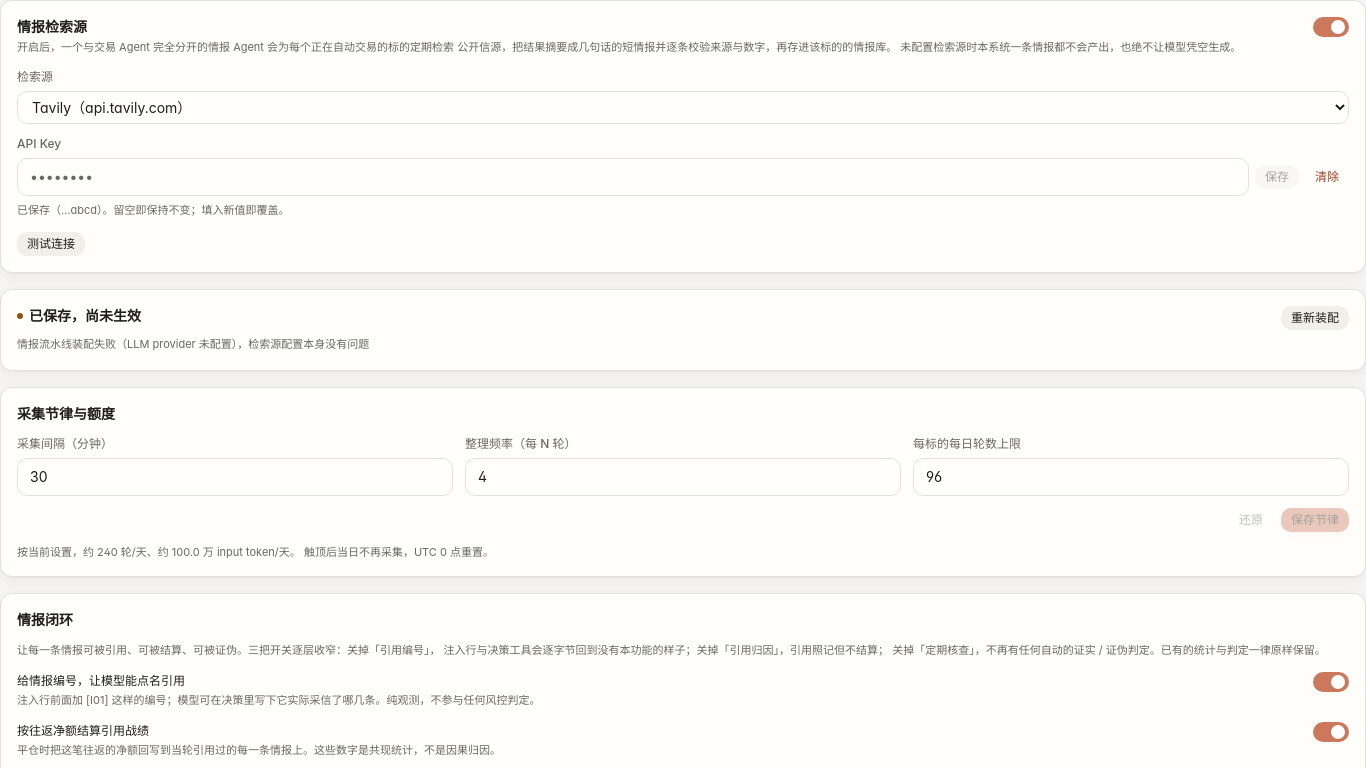
IntelSourceSettings · 生效状态卡（ai-trade-intel-arm-state） › 装配失败 ⇒ 露出【重新装配】，点一次真的发出 POST 并用回执刷新这张卡
This screenshot has width=1366, height=768.
Expected: the text with test id "intel-arm-message" shows "装配失败", [17, 337, 369, 351]
Click the button with test id "intel-arm-rearm" at (1315, 318), box [1281, 306, 1349, 330]
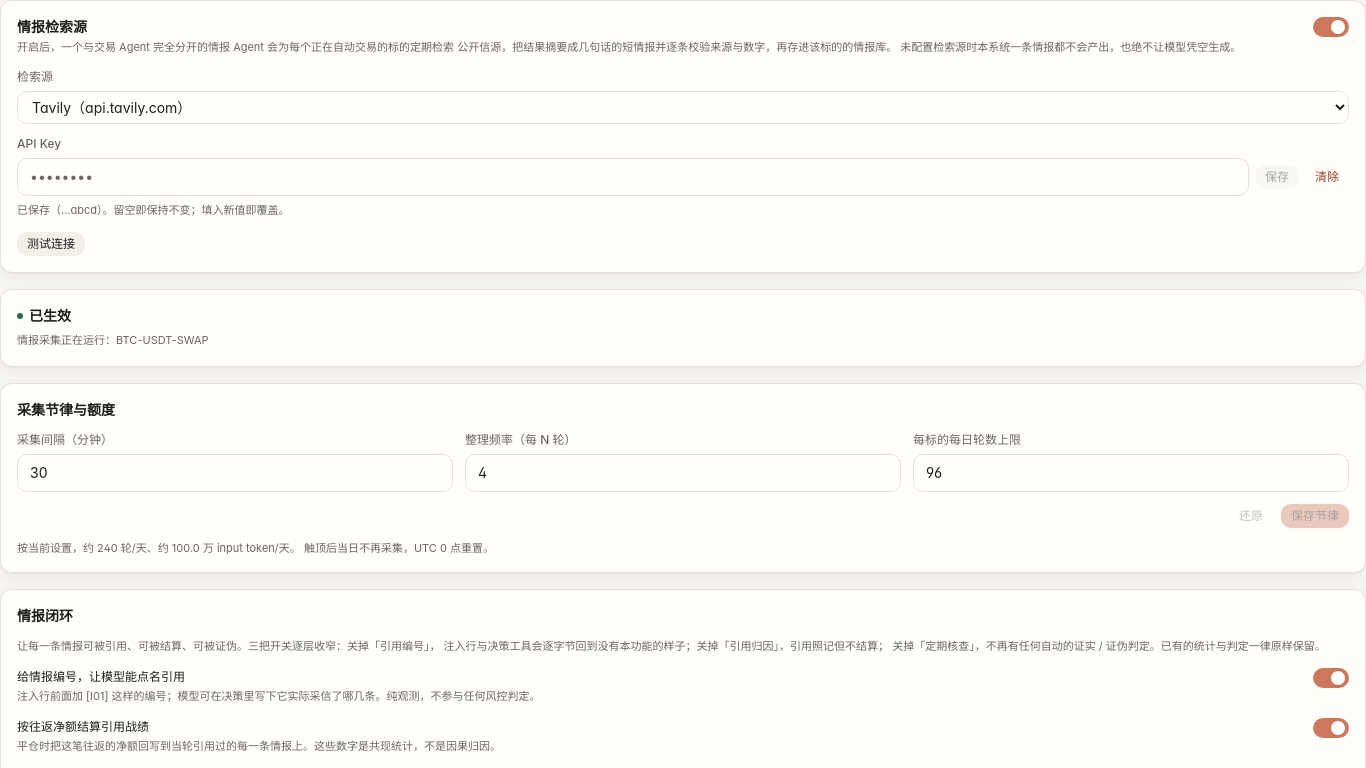
Expected: the text with test id "intel-arm-message" shows "正在运行", [17, 333, 208, 347]
Expected: the button with test id "intel-arm-rearm" is gone
